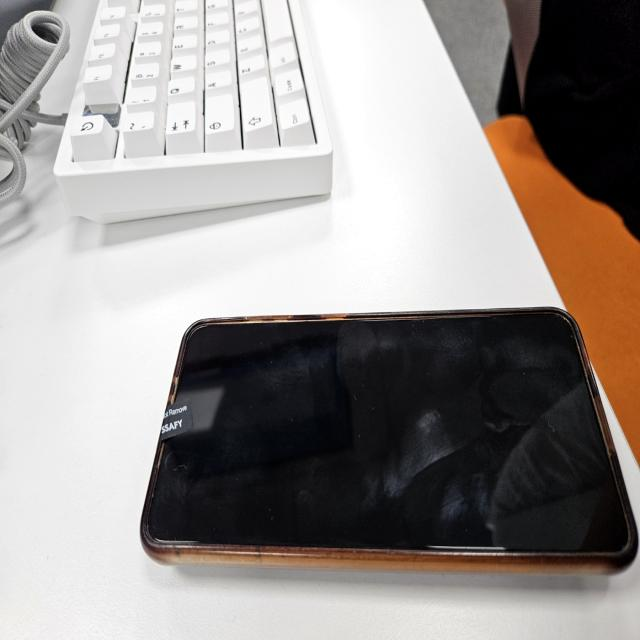phone: (139, 309, 636, 579)
sticker: (159, 400, 193, 443)
